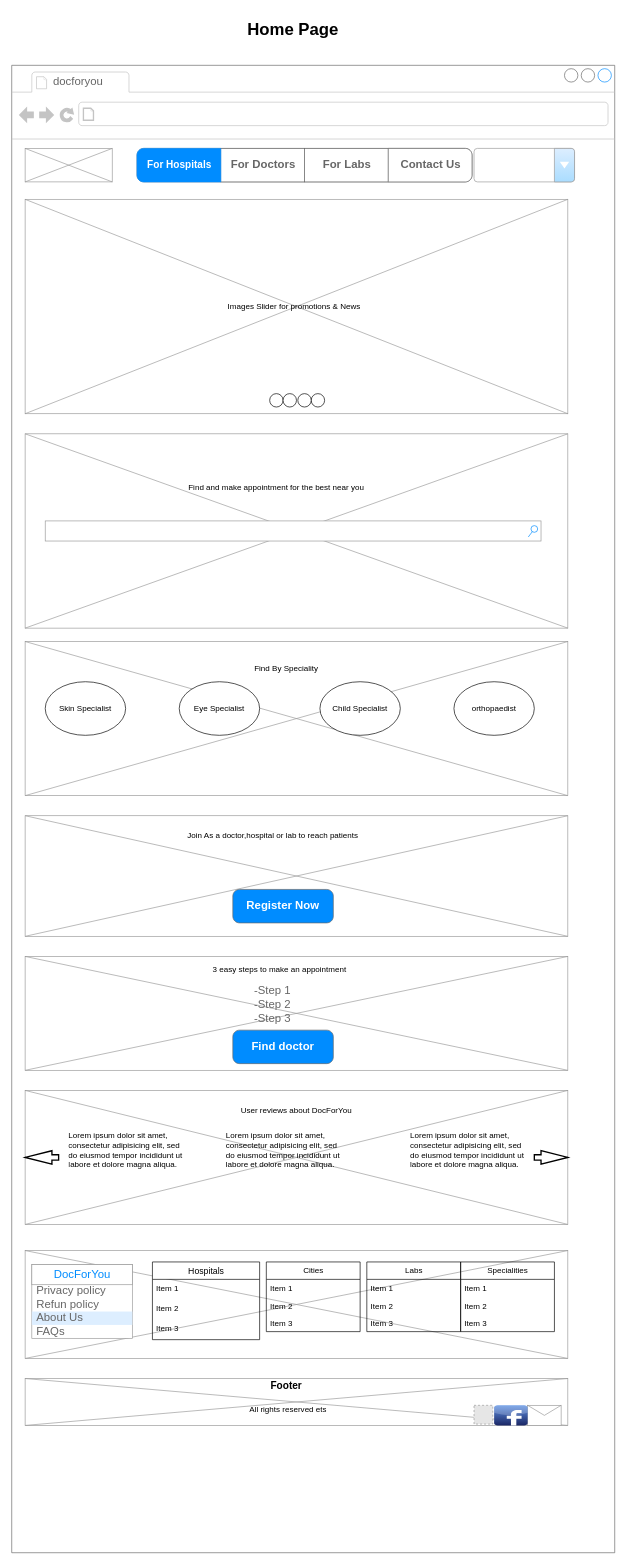
Some shapes in this 626 by 1564 pixel diagram are drawn without their labels. Grey dashed boxes stand in for pictures. Each missing label, with the centre of its shape:
"https://www.docforyou.pk" belongs at (183,114).
"Logo" belongs at (68,165).
"Register/Login" belongs at (524,165).
"Search for doctors,hospitals,labs,diseases,specialties,location" belongs at (293,530).
